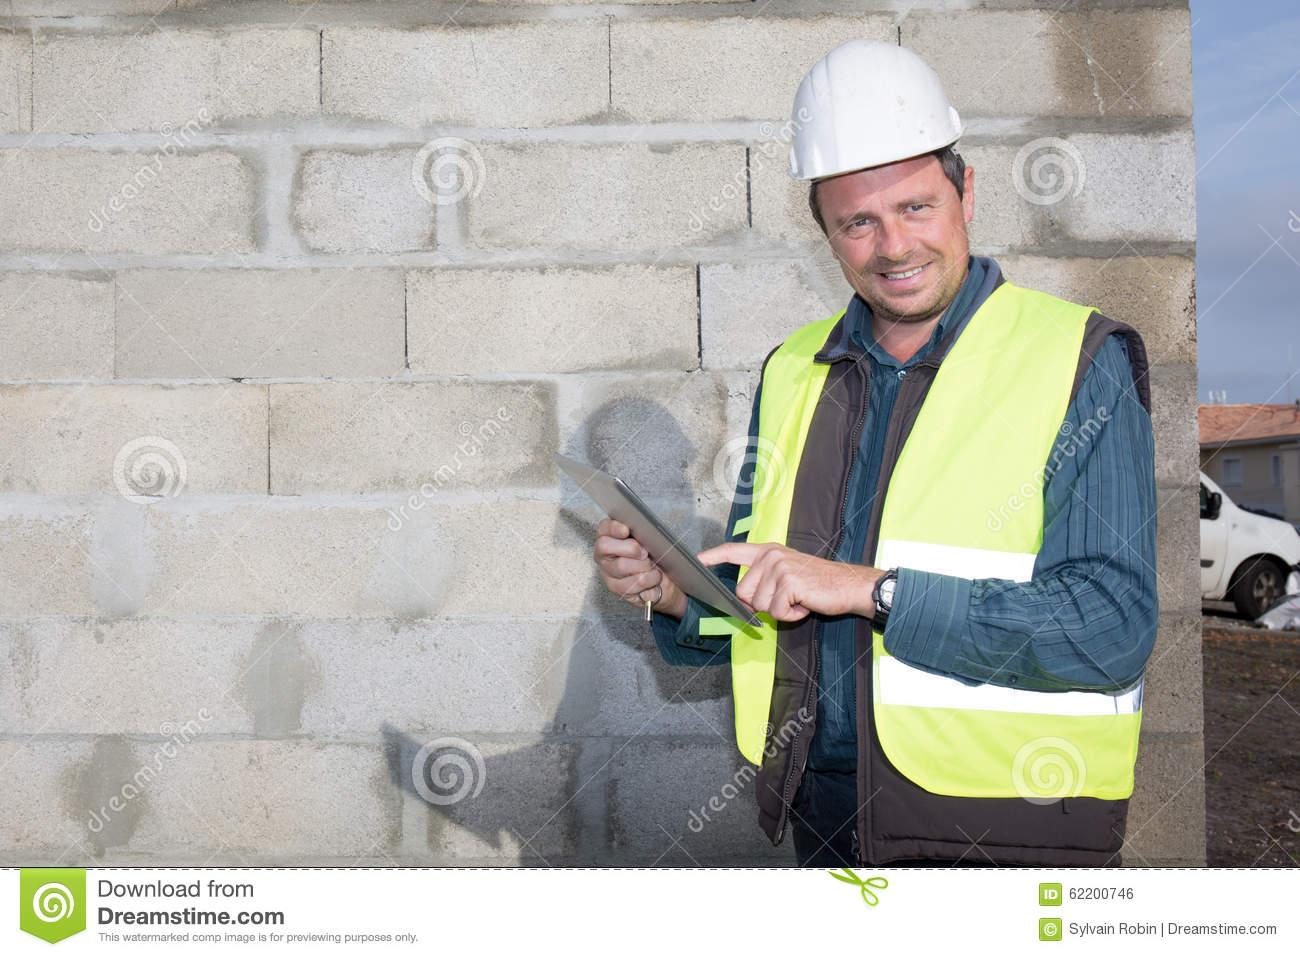helmet: (787, 41, 967, 181)
